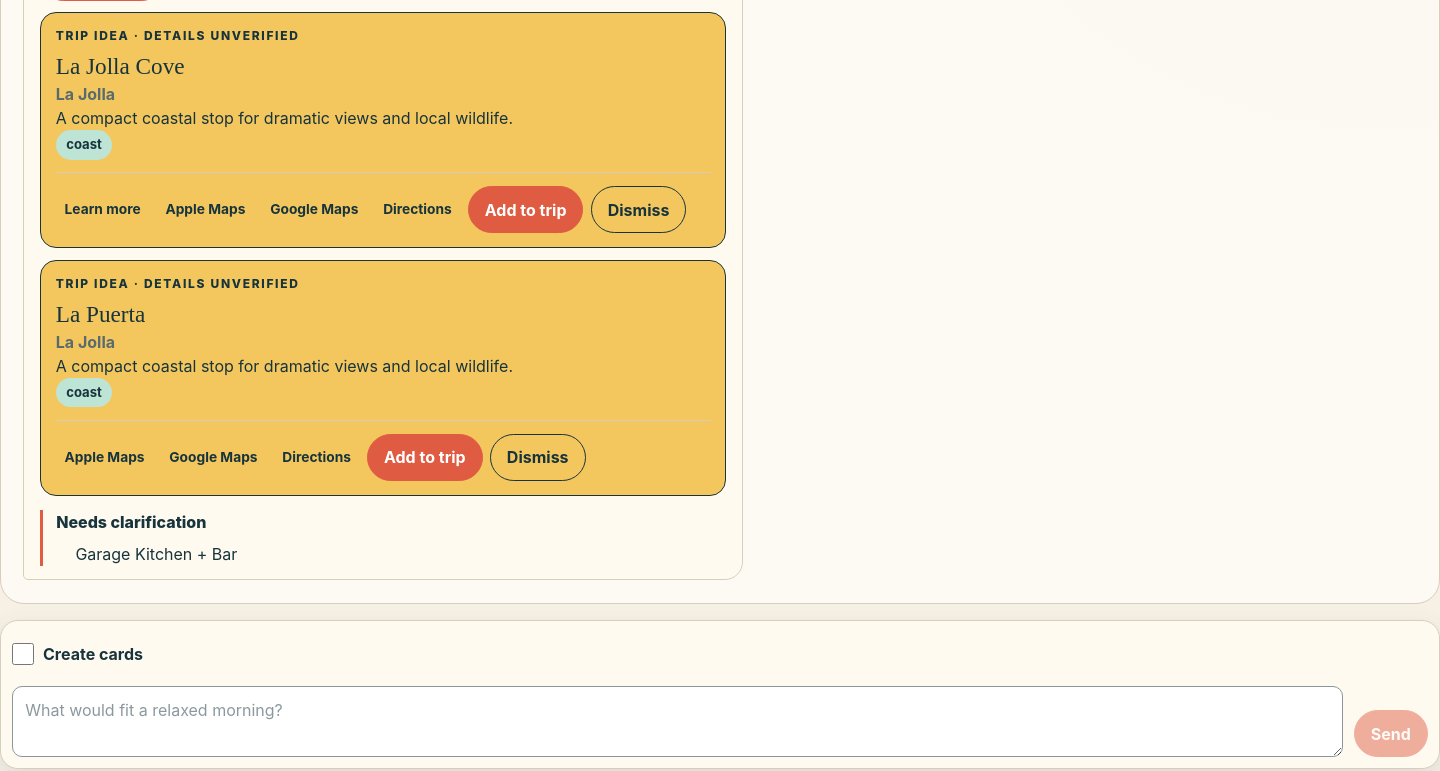
Scenario: retains a suggestion after repeated conflicts so it can be retried
The width and height of the screenshot is (1440, 771).
(page scrolled)
Type "What should we do?" into the text box named "Ask about this trip". click: (678,722)
box: 12,686 -> 1343,757
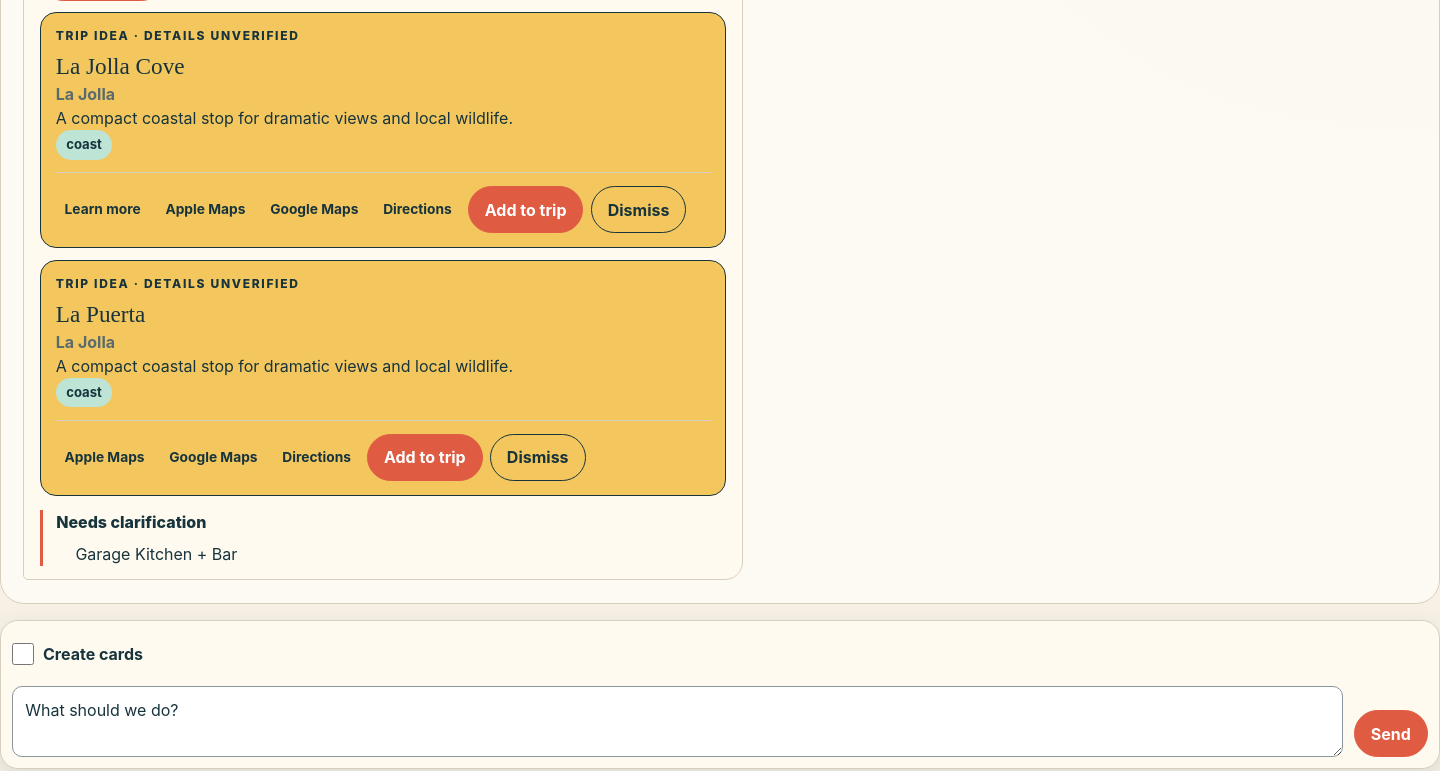
Press Enter in the text box named "Ask about this trip", box 12,686 -> 1343,757
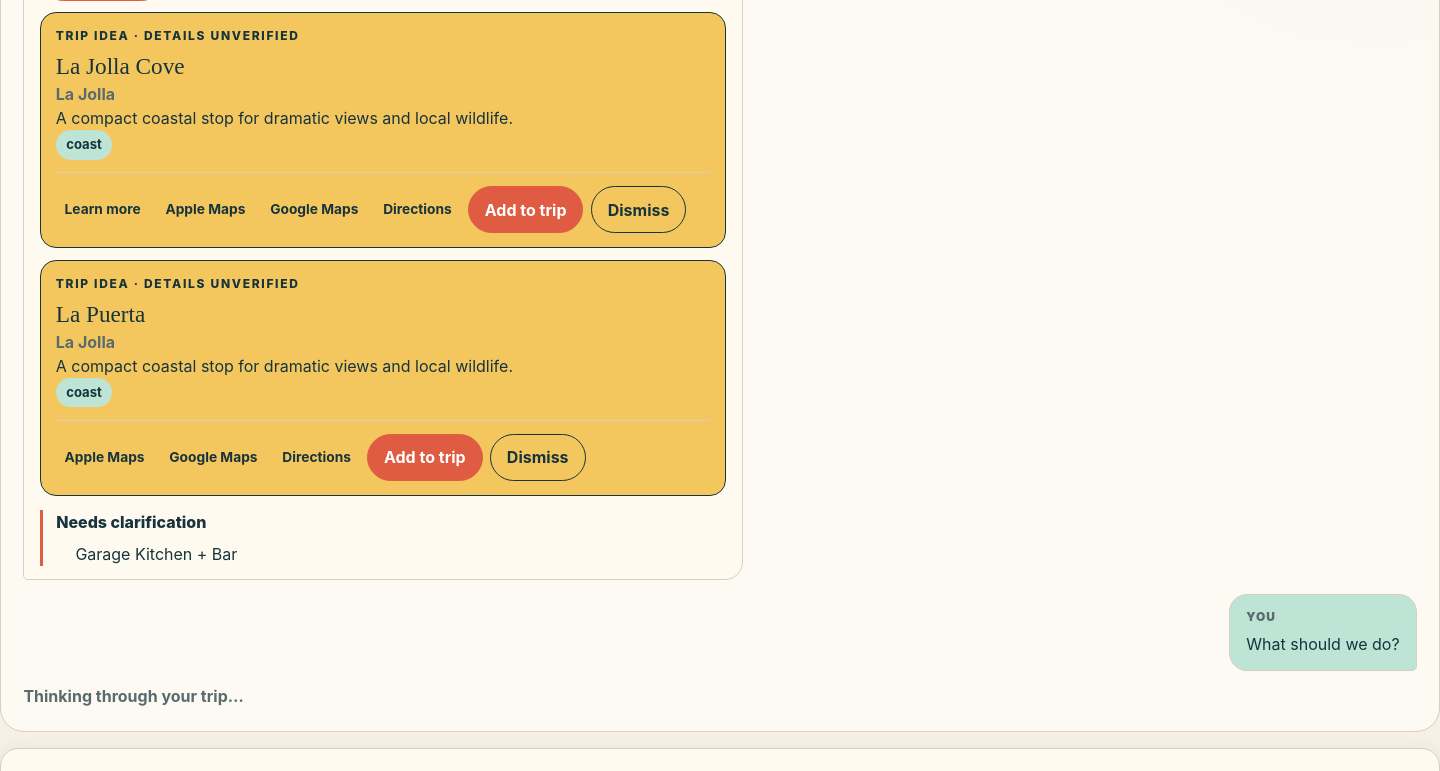
Click the button with aria-label "Add La Jolla Cove to trip". click: (526,210)
box: 468,186 -> 584,233
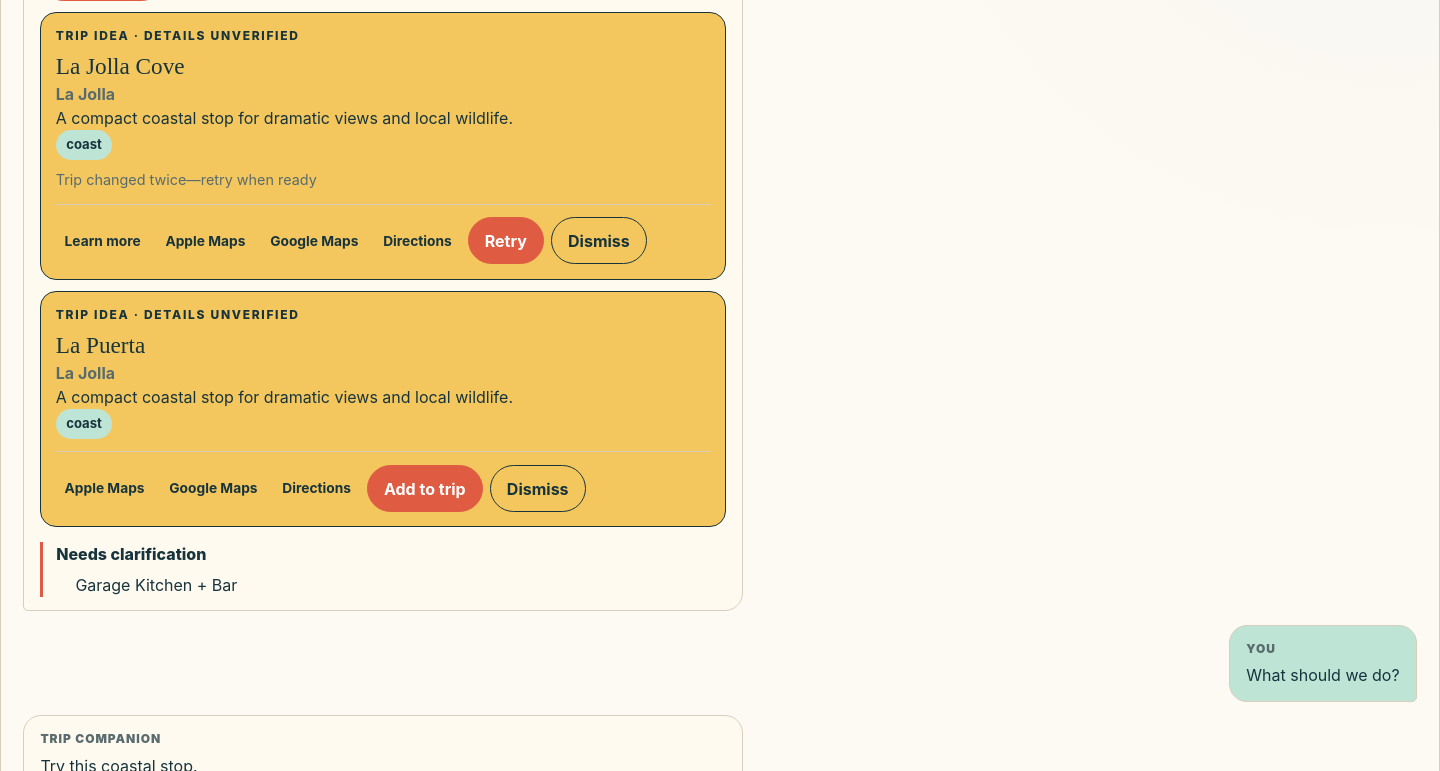
expect the text "Trip changed twice—retry when ready" is shown: met, box 56,171 -> 317,188
expect the button with aria-label "Retry adding La Jolla Cove to trip" is shown: met, box 468,218 -> 544,264
